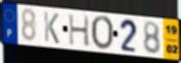2: (118, 17, 140, 56)
8: (142, 20, 162, 56), (20, 8, 38, 45)
H: (67, 13, 91, 48)
K: (43, 11, 61, 46)
O: (89, 15, 115, 52)
